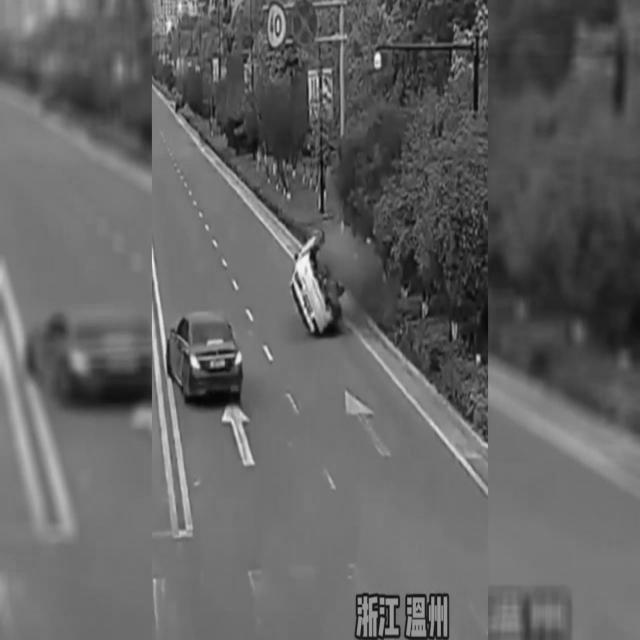accident: (286, 227, 351, 345)
vehicle: (162, 304, 254, 409)
